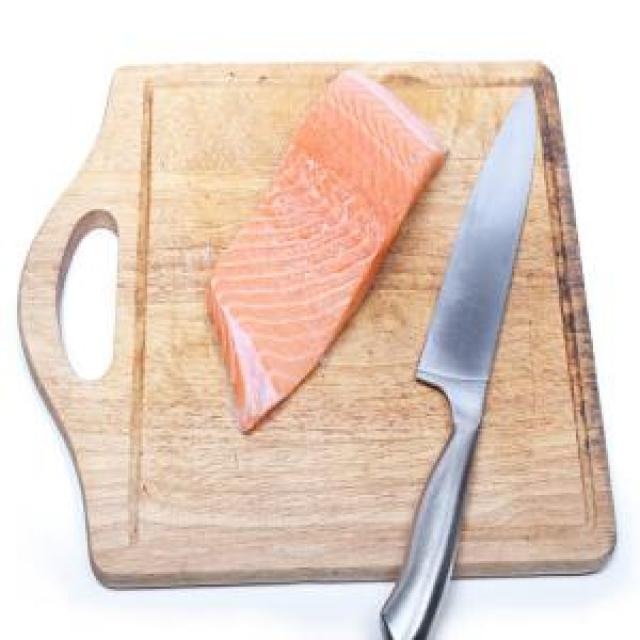knife: (377, 79, 542, 638)
